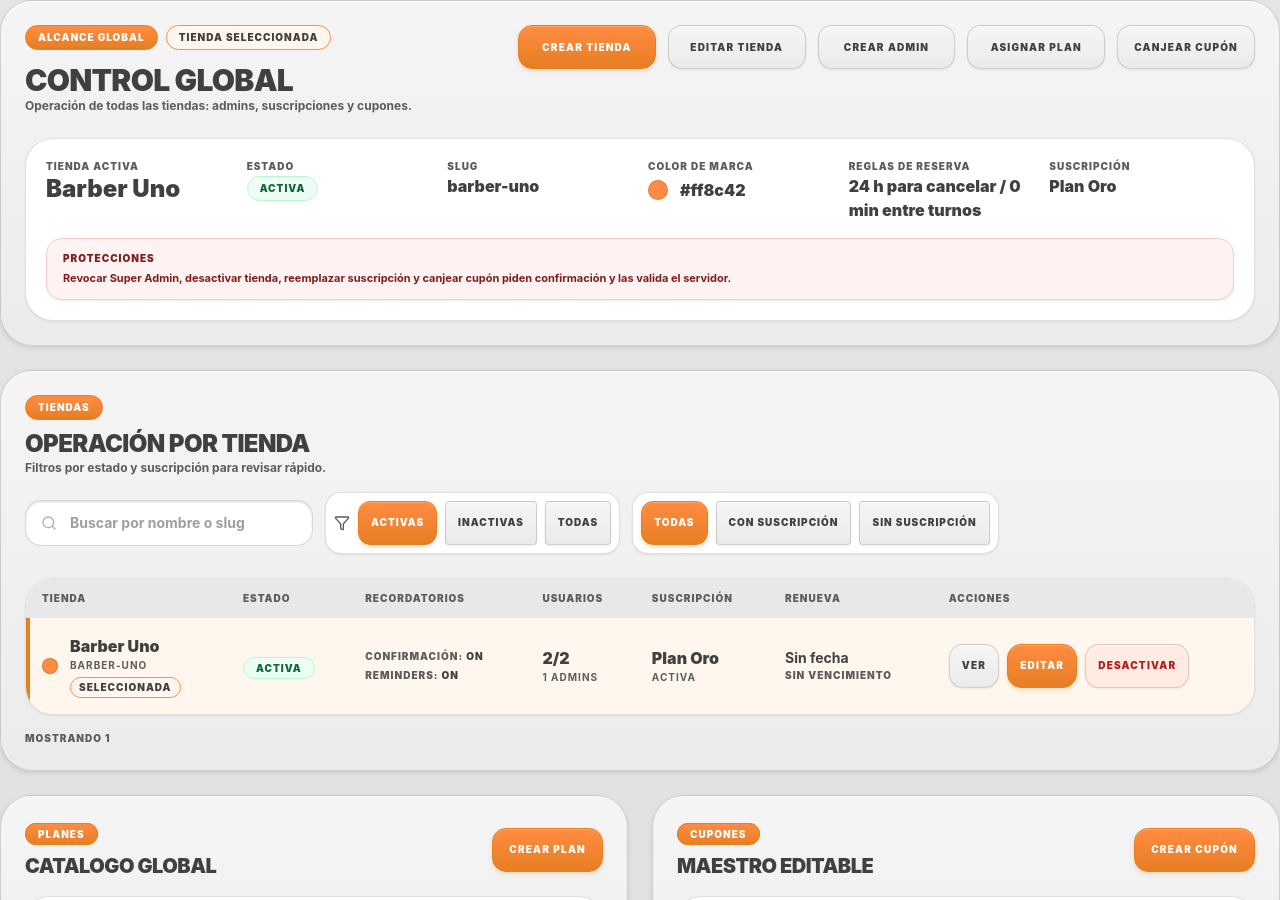
Test: SuperAdminPage › la tienda recien creada queda elegida cuando el listado la trae (F11b-21)
Click the button "Crear tienda" at (587, 47), box x1=518 y1=25 x2=656 y2=69
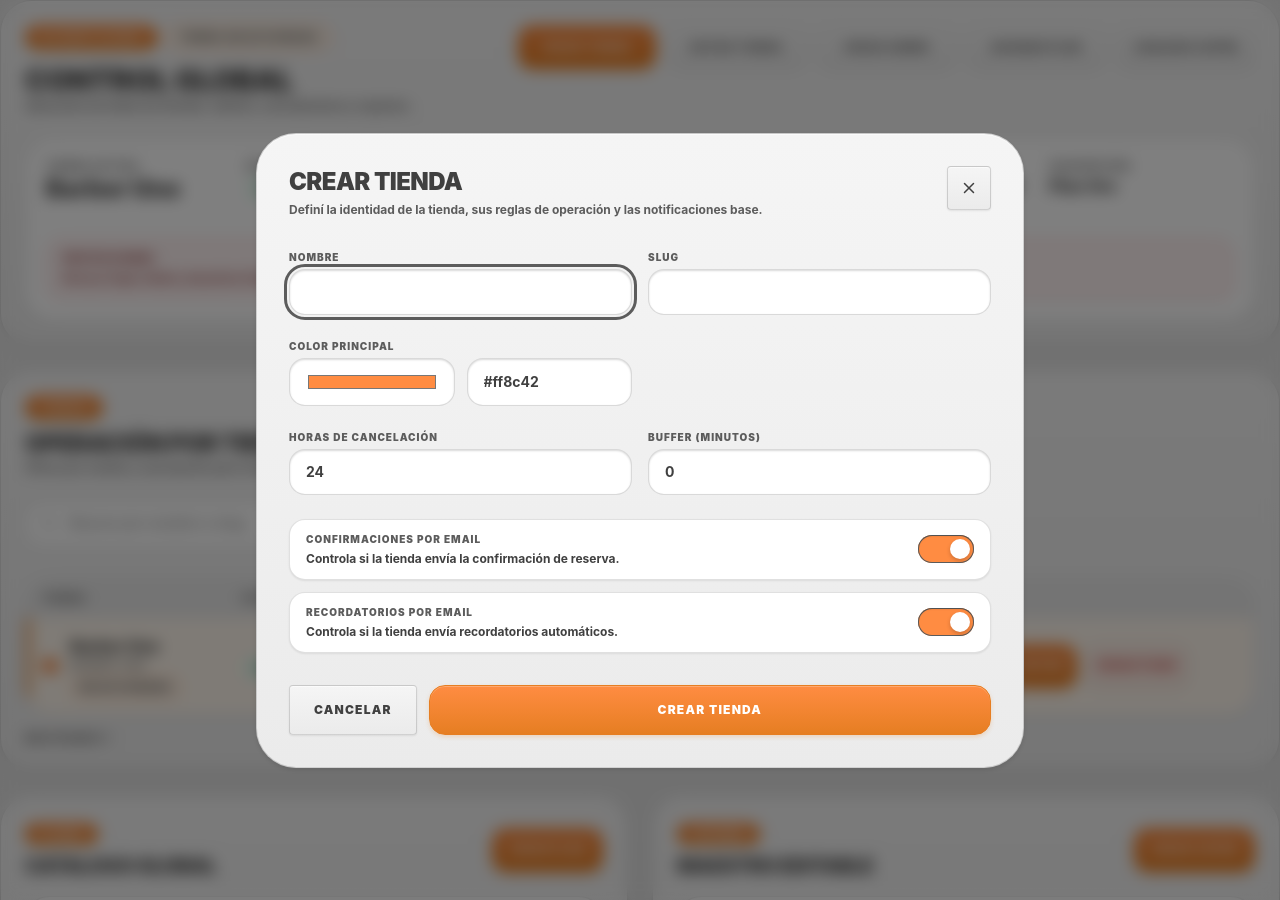
Type "Barber Dos" into the field labelled "Nombre" at (460, 292), box x1=289 y1=268 x2=632 y2=314
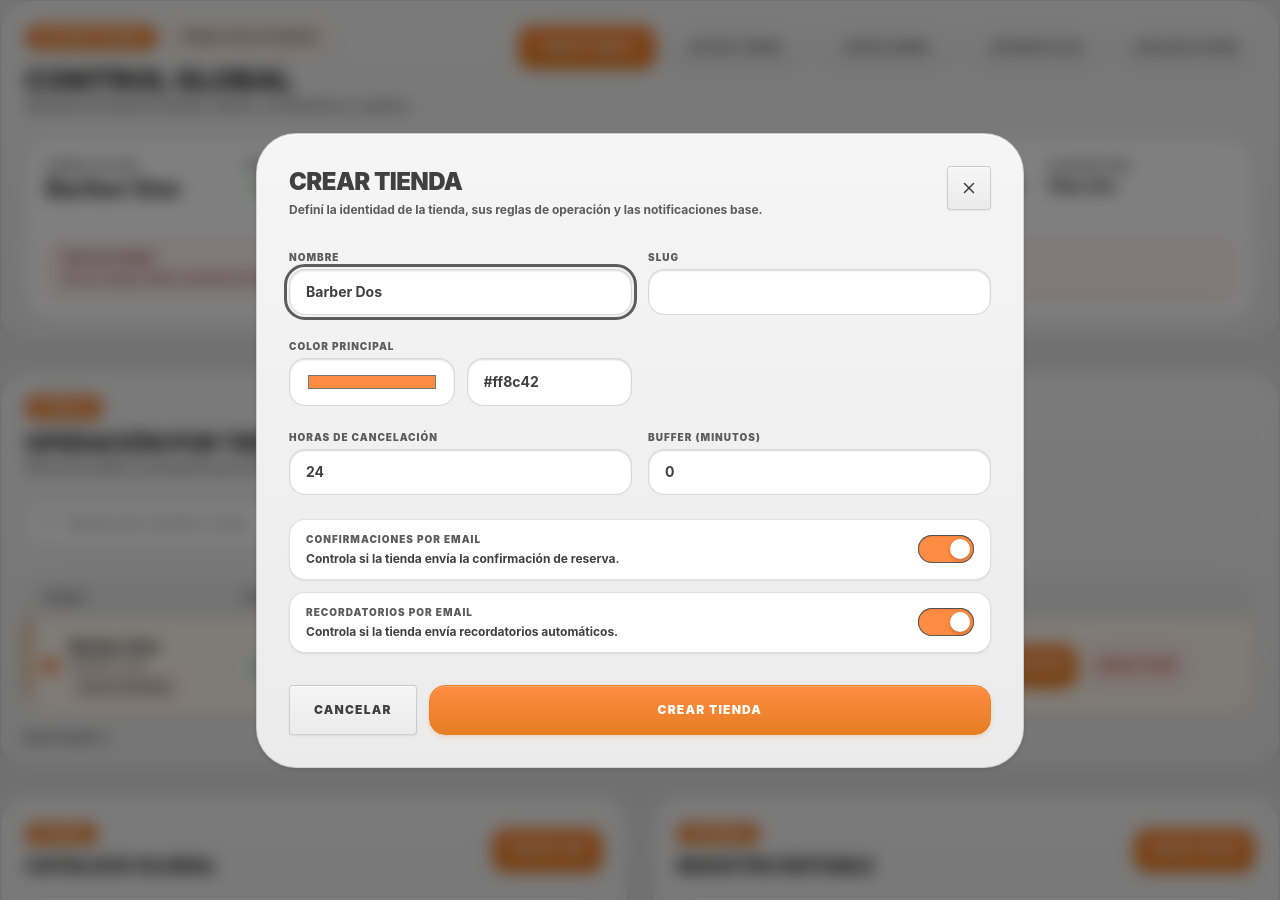
Type "barber-dos" into the field labelled "Slug" at (820, 292), box x1=648 y1=268 x2=991 y2=314
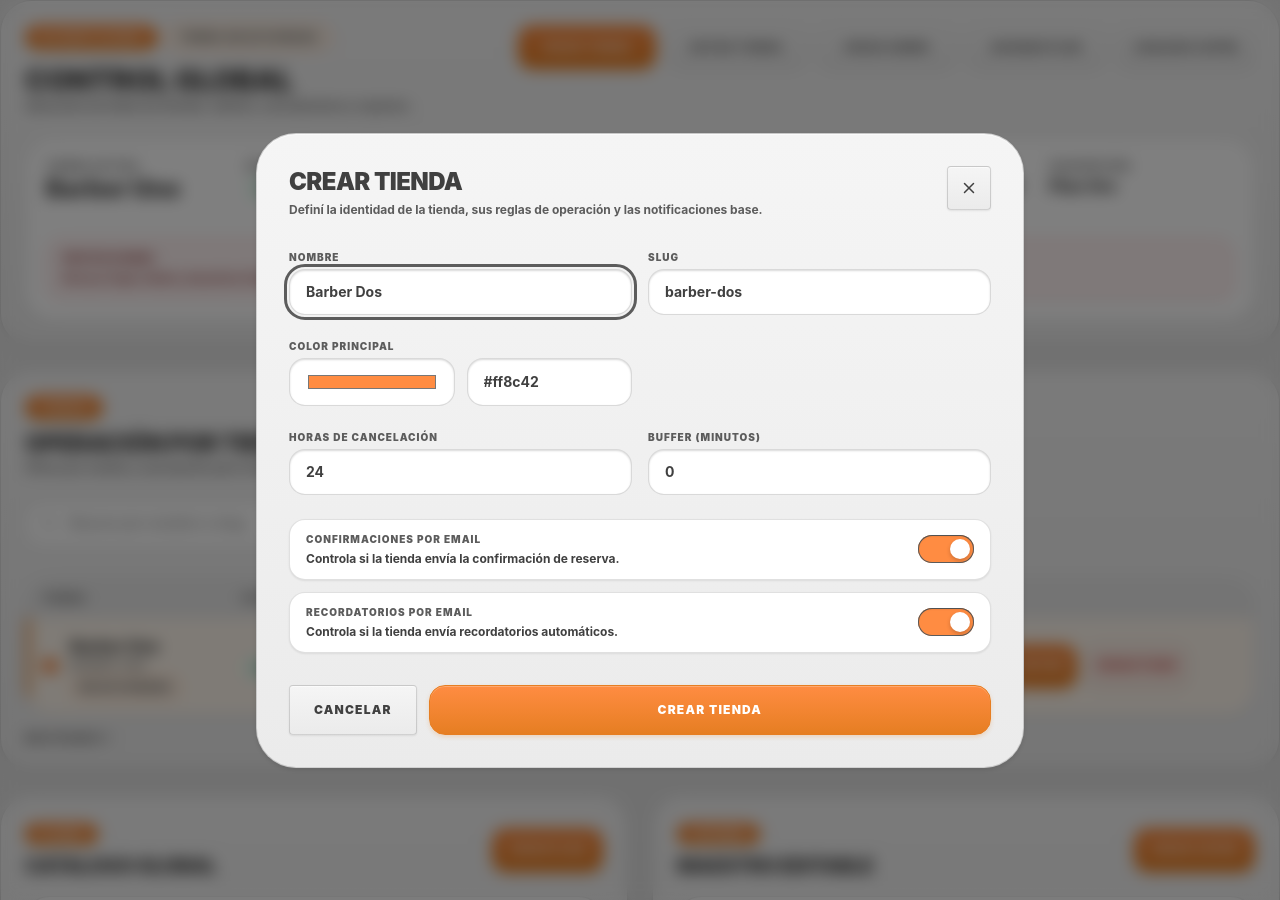
Submit the form, box x1=289 y1=250 x2=991 y2=734
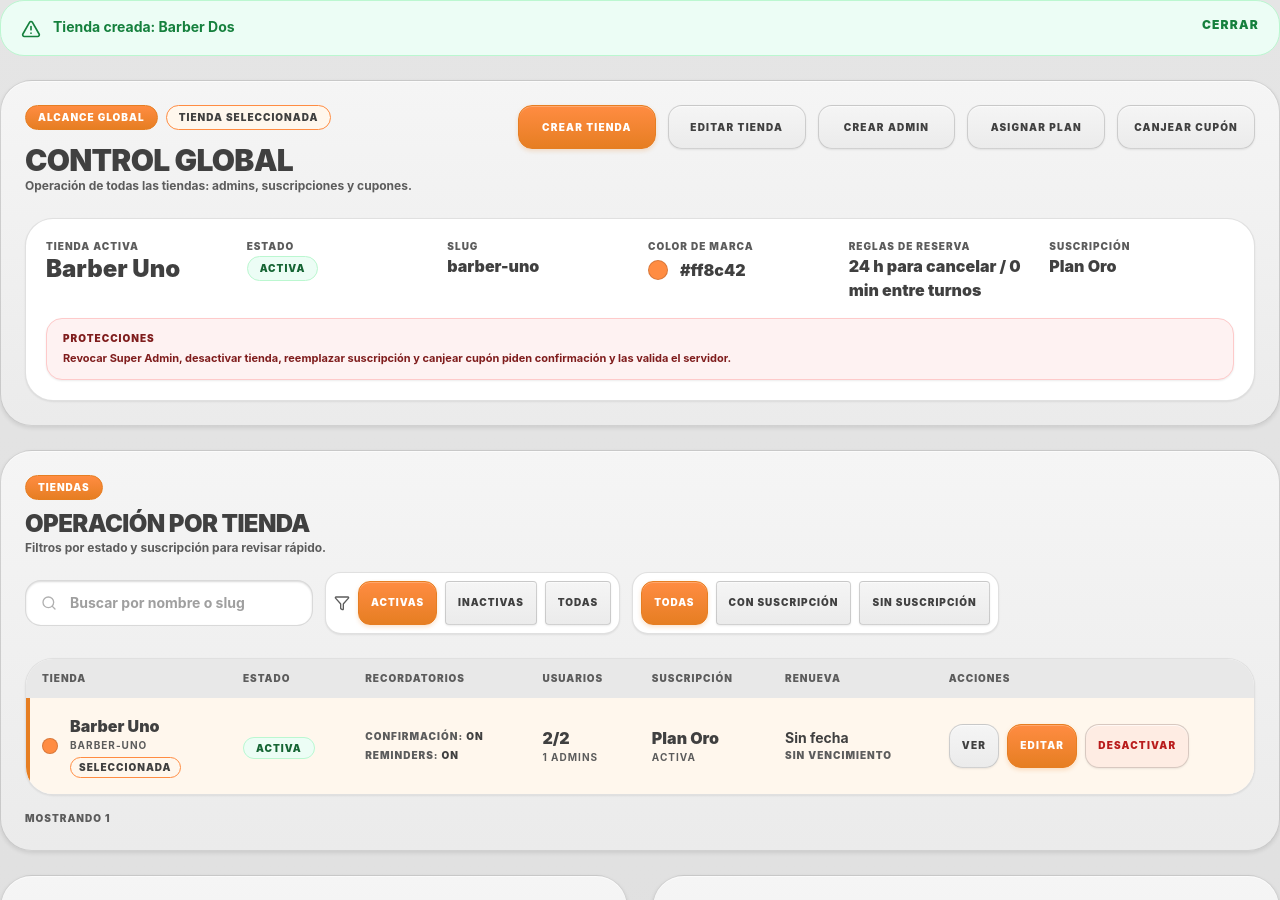
Result: the text "Tienda creada: Barber Dos" is shown at x1=53 y1=18 x2=235 y2=35
